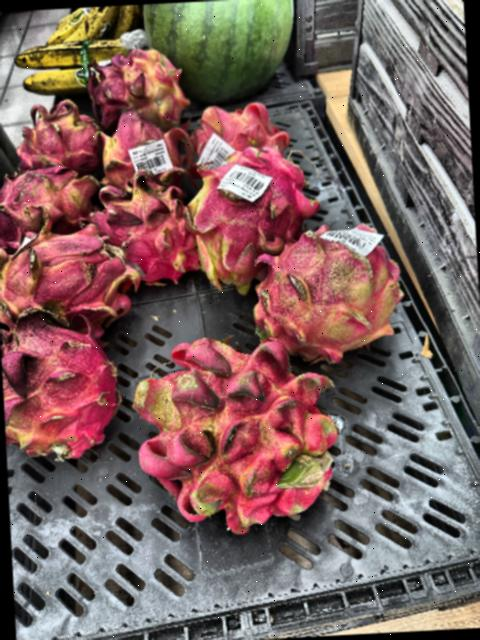buah-naga-belum-matang: (125, 327, 350, 540), (251, 214, 402, 358), (0, 314, 122, 458), (193, 150, 310, 277), (0, 224, 130, 330), (102, 174, 202, 285), (80, 33, 190, 131), (8, 96, 110, 172), (0, 161, 83, 236), (191, 96, 291, 157), (99, 119, 174, 193)
